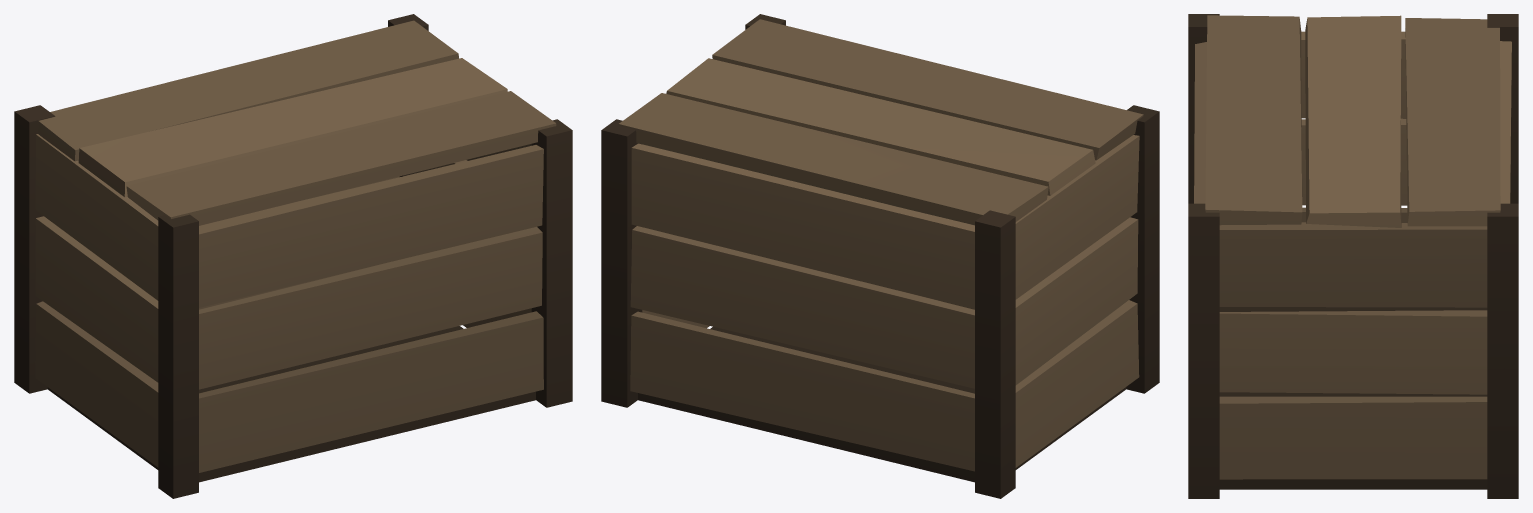
File: caja.glb
The picture shows the model from 3 angles, left to right: view 1: azimuth 30°, elevation 25°; view 2: azimuth 150°, elevation 25°; view 3: azimuth 270°, elevation 25°; orthographic projection. The views are drawn at different scales.
Visible parts, largest first — view 1: Caja; view 2: Caja; view 3: Caja.
Part boxes in pixels (x1,y1,x2,y2): Caja: (14, 14, 572, 498); Caja: (601, 14, 1159, 498); Caja: (1188, 14, 1518, 498).
Size of what is drawn, in the model's own units: 0.77 by 0.5051 by 0.53.
